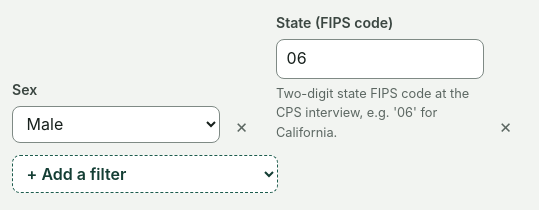
Scenario: PopulationFields (driven by real population metadata) › shows a filter a link set even when it is not offered, so it is never invisible
Check: the dropdown labelled "Sex" shows "Male", box [12,106,220,143]
Check: the field labelled "State (FIPS code)" holds "06", box [276,39,484,79]
Click the button named "Remove the state (fips code) filter" at [506, 126], box [489,110,522,143]
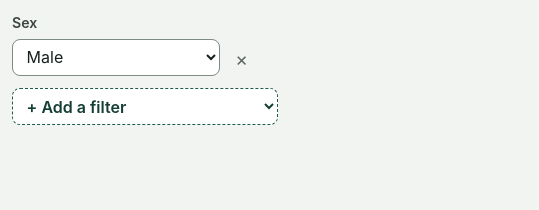
Check: the label labelled "State (FIPS code)" is gone
